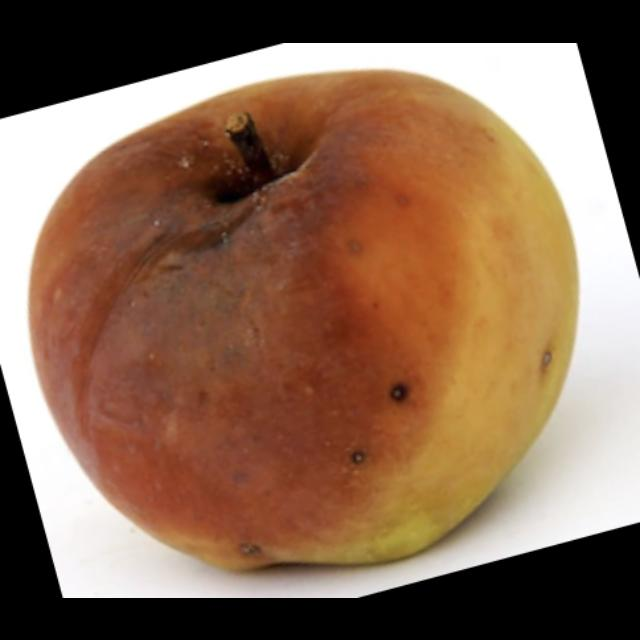Apel Tidak Segar: (22, 60, 588, 578)
